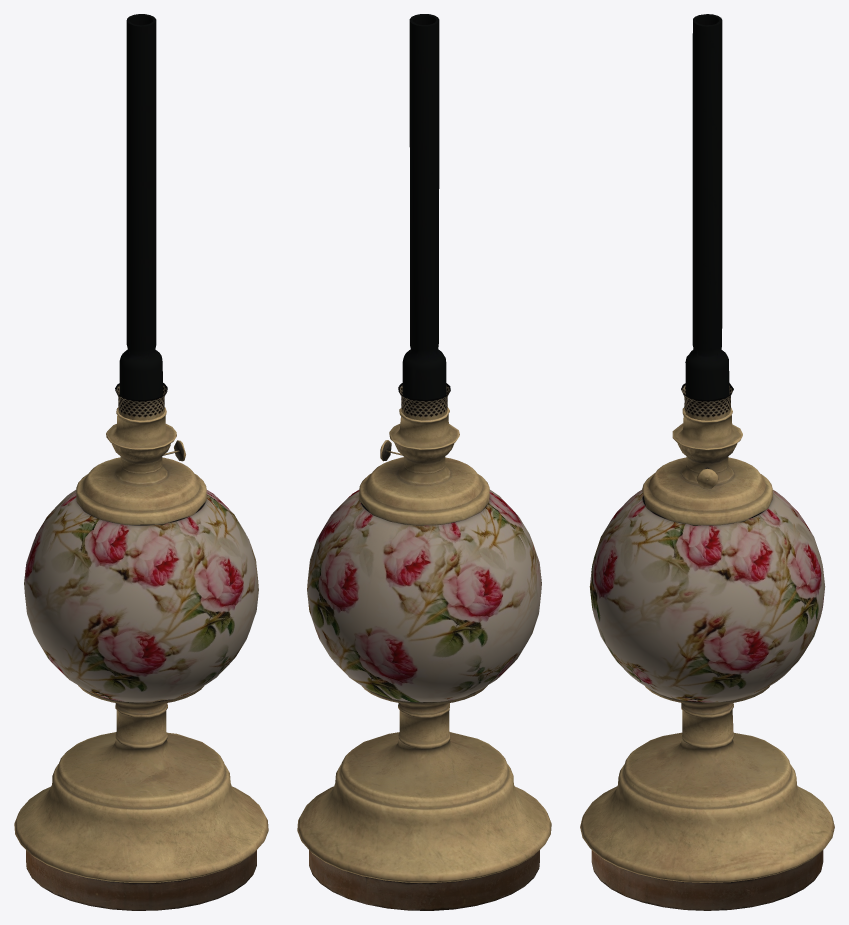
The model's file is vintage_oil_lamp.glb.
3 renders of one model, left to right at view 1: azimuth 30°, elevation 25°; view 2: azimuth 150°, elevation 25°; view 3: azimuth 270°, elevation 25°, orthographic.
Parts seen in each view (by area): view 1: vintage_oil_lamp, vintage_oil_lamp_glass; view 2: vintage_oil_lamp, vintage_oil_lamp_glass; view 3: vintage_oil_lamp, vintage_oil_lamp_glass.
Boxes of the visible parts, x1=… form: vintage_oil_lamp: x1=14, y1=407, x2=268, y2=910; vintage_oil_lamp_glass: x1=115, y1=14, x2=167, y2=420; vintage_oil_lamp: x1=297, y1=407, x2=551, y2=910; vintage_oil_lamp_glass: x1=398, y1=14, x2=450, y2=420; vintage_oil_lamp: x1=580, y1=407, x2=834, y2=910; vintage_oil_lamp_glass: x1=681, y1=14, x2=733, y2=420.
Bounding box in the file's own units: 0.22 × 0.8016 × 0.22.
Materials: 3 (3 with a texture image).
